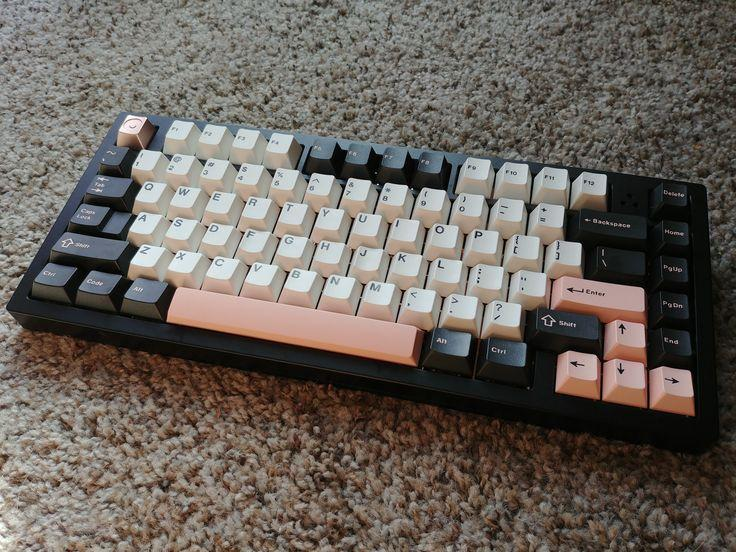keyboard: (5, 109, 720, 454)
